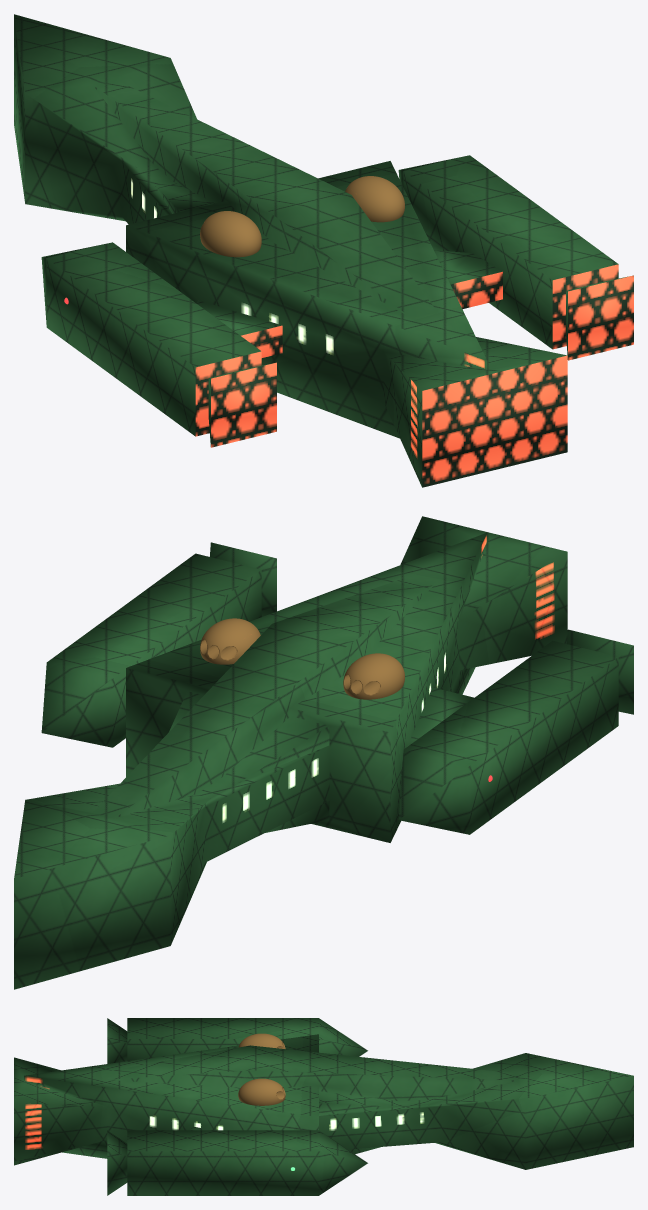
File: krelath_light_cruiser.glb
3 renders of one model, top to bottom at view 1: azimuth 30°, elevation 25°; view 2: azimuth 150°, elevation 25°; view 3: azimuth 270°, elevation 25°, orthographic. The views are drawn at different scales.
Visible parts, largest first — view 1: KrelathLightCruiser; view 2: KrelathLightCruiser; view 3: KrelathLightCruiser.
Part boxes in pixels (box(x1,y1,x2,y2)): KrelathLightCruiser: box(14, 14, 633, 487); KrelathLightCruiser: box(14, 516, 633, 989); KrelathLightCruiser: box(14, 1018, 633, 1195).
Size of the model in its own units: 25.66 by 9.05 by 50.
1 material, 1 textured.
